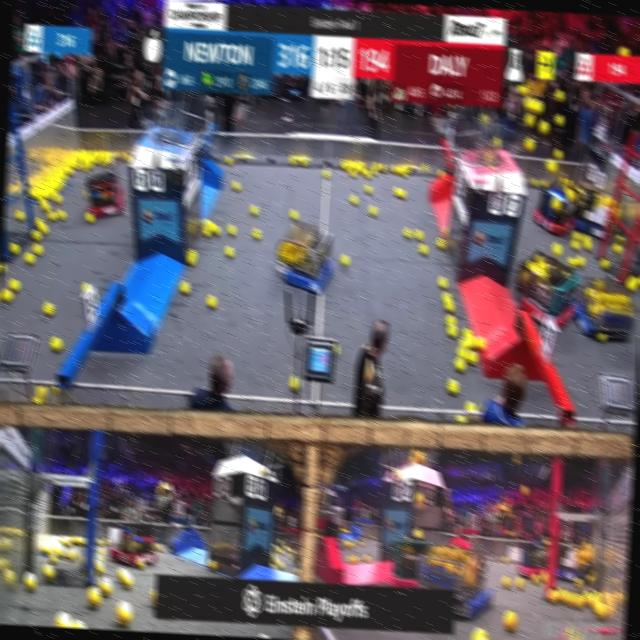ball_airborne: (532, 98, 543, 114), (539, 119, 549, 134), (524, 97, 535, 110), (525, 140, 536, 152), (525, 113, 535, 126), (547, 159, 556, 172), (416, 451, 425, 463), (479, 112, 488, 124), (491, 138, 500, 150), (415, 491, 424, 502), (555, 115, 564, 126), (554, 148, 563, 159), (518, 85, 527, 95), (552, 199, 561, 209), (415, 527, 423, 537), (521, 485, 529, 495), (555, 90, 563, 100), (553, 244, 561, 254), (514, 454, 521, 463), (409, 456, 417, 463), (411, 449, 418, 456)
ball_ground: (116, 602, 134, 627), (87, 586, 102, 607), (24, 573, 36, 592), (52, 338, 64, 352), (455, 358, 467, 372), (448, 380, 458, 396), (289, 376, 299, 392), (2, 290, 14, 302), (43, 302, 53, 316), (208, 296, 218, 310), (464, 401, 476, 412), (477, 336, 487, 349), (10, 244, 20, 256), (628, 280, 638, 292), (448, 326, 458, 337), (446, 299, 456, 310), (26, 254, 36, 265), (600, 259, 610, 269), (402, 228, 412, 238), (448, 316, 458, 326), (225, 245, 234, 256), (34, 245, 43, 256), (568, 257, 577, 267), (85, 212, 94, 222), (440, 278, 449, 288), (515, 578, 524, 588), (32, 231, 42, 240), (576, 256, 584, 266), (437, 240, 445, 250), (232, 180, 240, 190), (416, 228, 424, 238), (342, 255, 350, 265), (531, 574, 539, 583), (290, 210, 298, 219), (421, 245, 428, 255), (251, 206, 259, 214), (612, 246, 620, 254), (228, 227, 235, 236), (253, 230, 260, 239), (352, 193, 358, 203), (225, 157, 232, 165), (365, 185, 372, 192), (423, 166, 430, 173), (2, 264, 8, 272)
goal: (134, 106, 198, 144)
robot_blue: (408, 537, 500, 623), (271, 222, 335, 296), (574, 270, 636, 344), (550, 538, 610, 590), (572, 178, 616, 244)
robot_red: (515, 248, 583, 330), (388, 530, 450, 598), (532, 175, 584, 236), (510, 532, 564, 582), (108, 518, 160, 566), (84, 168, 125, 218)
